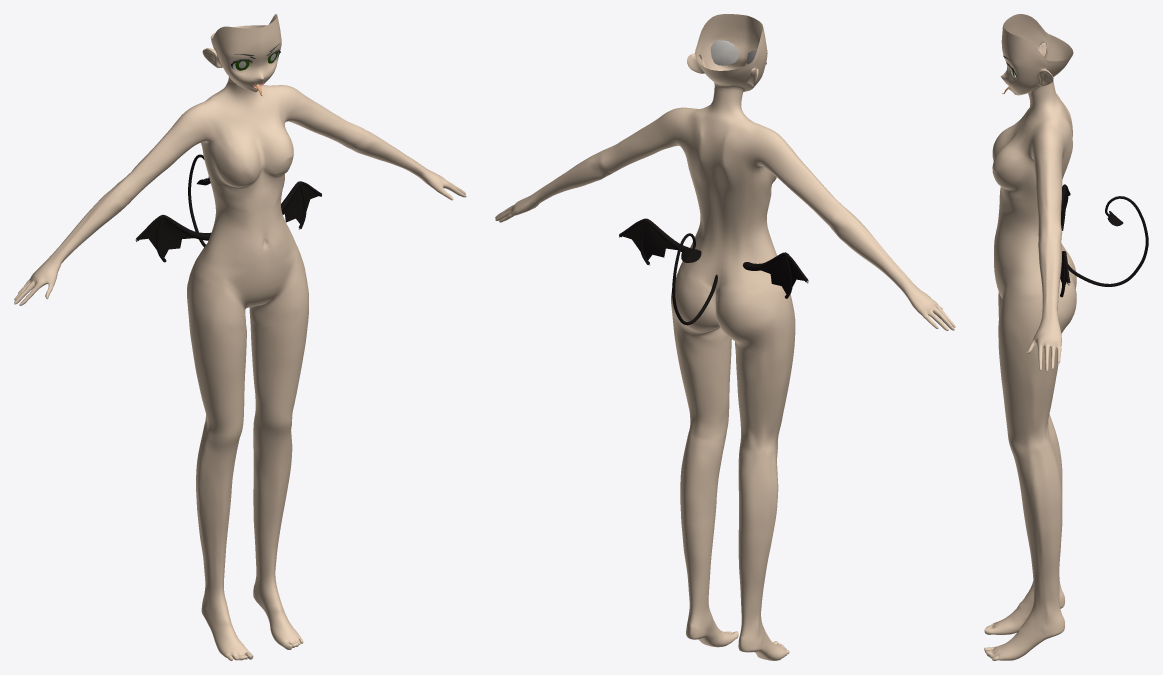
The model's file is MiziSubstancetest.fbx.
The picture shows the model from 3 angles, left to right: view 1: azimuth 30°, elevation 25°; view 2: azimuth 150°, elevation 25°; view 3: azimuth 270°, elevation 25°; orthographic projection. The views are drawn at different scales.
Visible parts, largest first — view 1: BOdy, Wings; view 2: BOdy, Wings; view 3: BOdy, Tail, Wings.
Boxes of the visible parts, left/top/right/bottom form: BOdy: left=14, top=14, right=466, bottom=660; Wings: left=135, top=181, right=322, bottom=262; BOdy: left=495, top=14, right=955, bottom=660; Wings: left=619, top=218, right=808, bottom=298; BOdy: left=984, top=14, right=1076, bottom=660; Tail: left=1068, top=196, right=1148, bottom=286; Wings: left=1060, top=184, right=1070, bottom=297.
Bounding box in the file's own units: 11.5 × 15.15 × 3.65.
